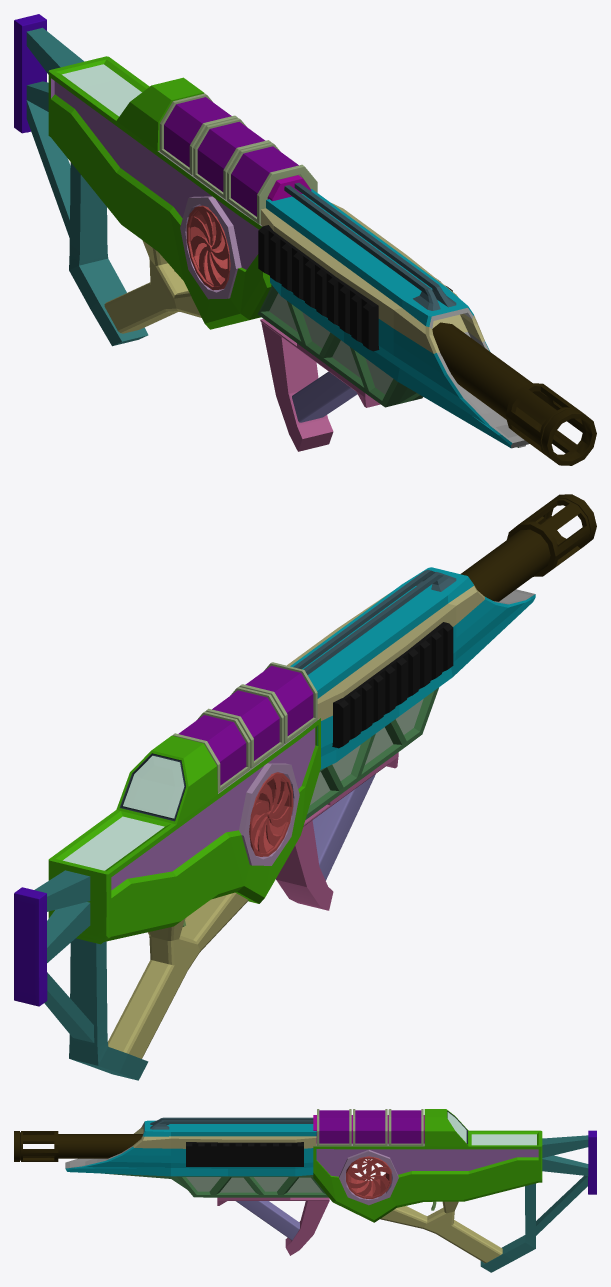
File: rifle3.fbx
The picture shows the model from 3 angles, top to bottom: view 1: azimuth 30°, elevation 25°; view 2: azimuth 150°, elevation 25°; view 3: azimuth 270°, elevation 25°; orthographic projection. The views are drawn at different scales.
Parts seen in each view (by area): view 1: stock, body, barrel, grip, railLeft1, cartridge1, cartridge3, cartridge2, spinny; view 2: stock, body, barrel, railLeft1, grip, cartridge1, cartridge2, cartridge3, spinny; view 3: stock, body, barrel, railLeft, grip, spinny, cartridge3, cartridge1, cartridge2.
Boxes of the visible parts, x1,y1,x2,y2 form: stock: (14,14,311,346); body: (257,182,529,448); barrel: (432,322,596,465); grip: (260,318,380,451); railLeft1: (258,225,379,351); cartridge1: (227,143,317,224); cartridge3: (159,93,237,174); cartridge2: (193,118,271,199); spinny: (186,205,230,290); stock: (14,718,320,1080); body: (287,567,535,819); barrel: (460,494,596,601); railLeft1: (332,622,453,748); grip: (276,752,398,910); cartridge1: (239,662,317,743); cartridge2: (205,687,283,768); cartridge3: (172,711,250,792); spinny: (249,772,293,856); stock: (313,1109,596,1272); body: (65,1117,328,1197); barrel: (14,1131,142,1161); railLeft: (186,1142,303,1166); grip: (217,1197,329,1255); spinny: (346,1156,391,1198); cartridge3: (388,1109,423,1145); cartridge1: (317,1109,351,1145); cartridge2: (353,1109,387,1145).
Size of the model in its own units: 0.6055 by 2 by 6.78.
